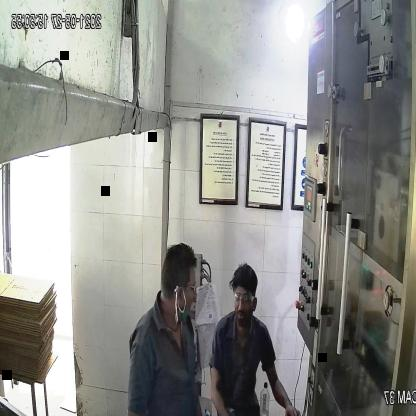goggles: (231, 286, 260, 307)
